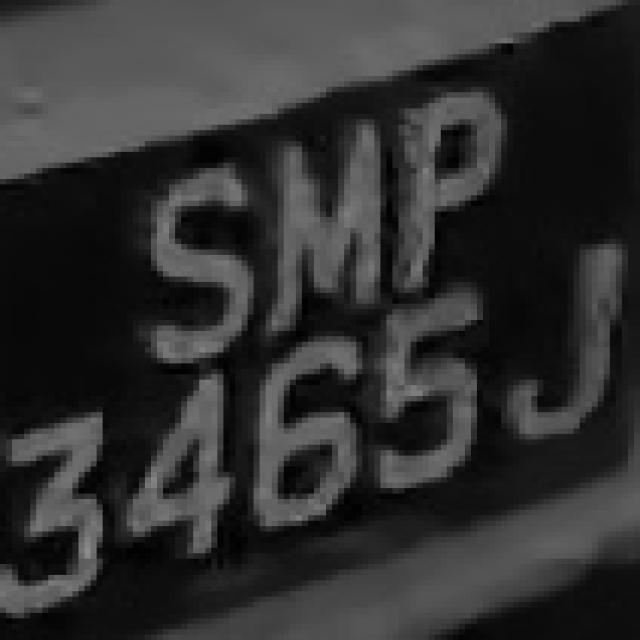3: (6, 396, 115, 624)
4: (120, 358, 248, 575)
5: (356, 282, 489, 499)
6: (242, 326, 368, 542)
J: (495, 228, 616, 434)
M: (254, 108, 398, 326)
P: (399, 81, 513, 272)
S: (126, 146, 254, 364)
